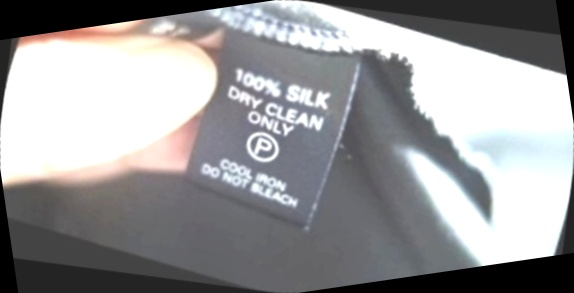dry_clean_any_solvent_except_trichloroethylene: (229, 112, 299, 181)
